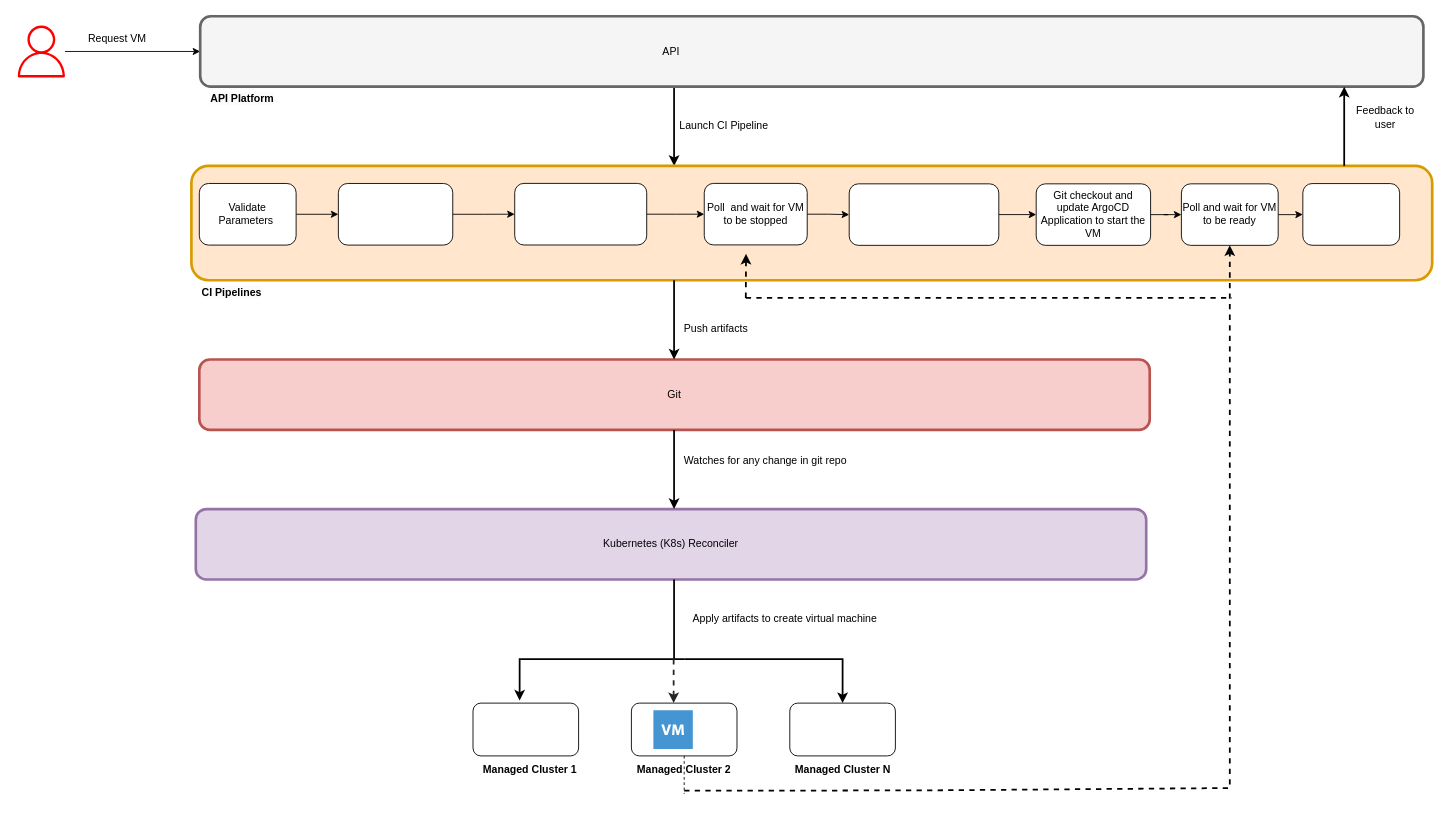
Some shapes in this 1448 by 814 pixel diagram are drawn without their labels. The shapes that lost their labels are listed below. From the top down, each one's centre as x and y in pixels, then its label:
[395,214]: Identify the cluster hosting VM from ACM
[580,214]: Git checkout and update ArgoCD Application to stop the VM
[923,214]: Patch the VM disk image using "virt-customize"
[1351,214]: Validate VM
